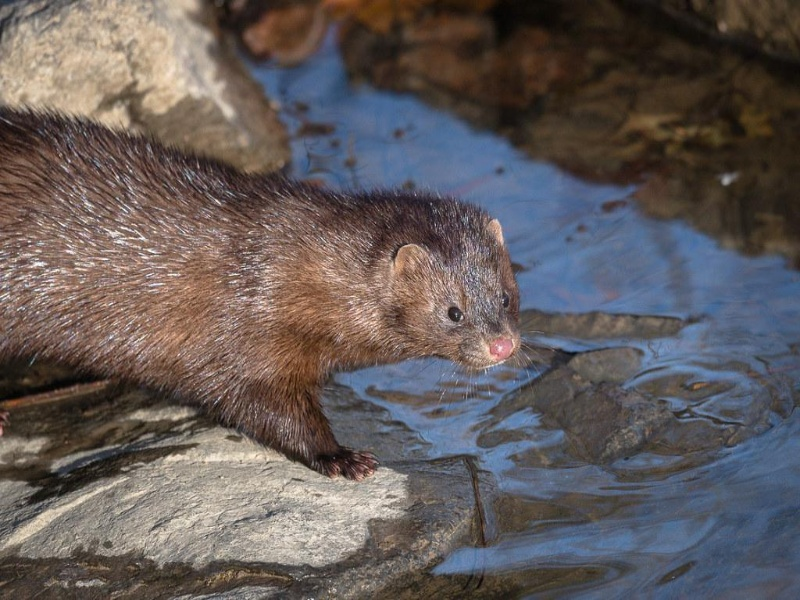minkish: (2, 103, 531, 487)
